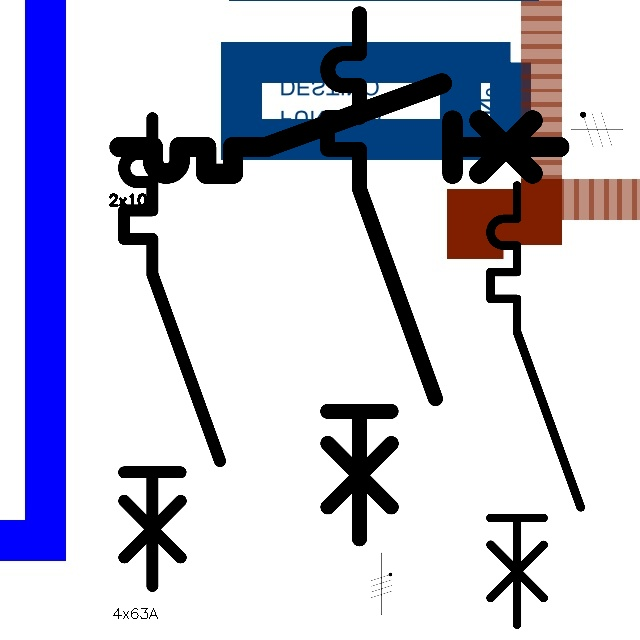interruptor_termomagnetico: (314, 0, 449, 552), (112, 106, 232, 597), (479, 174, 592, 636), (108, 72, 570, 185)
